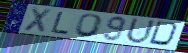9: (102, 16, 127, 43)
D: (147, 20, 182, 48)
L: (50, 11, 71, 36)
O: (72, 13, 105, 39)
U: (124, 17, 157, 45)
X: (21, 6, 54, 35)
